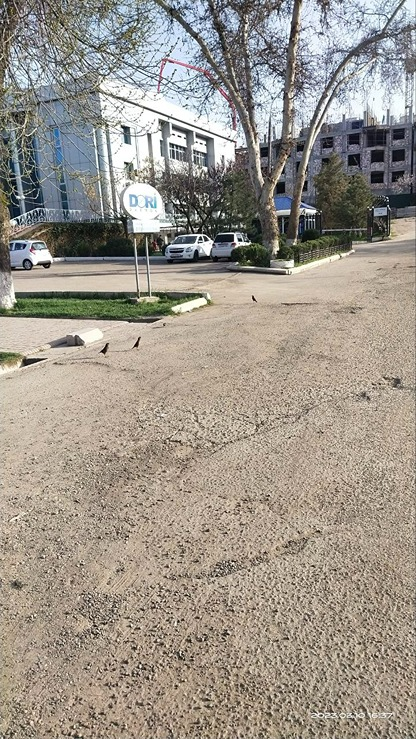car: (0, 238, 68, 278), (162, 222, 207, 263), (212, 226, 260, 262)
tree: (0, 0, 416, 239)
